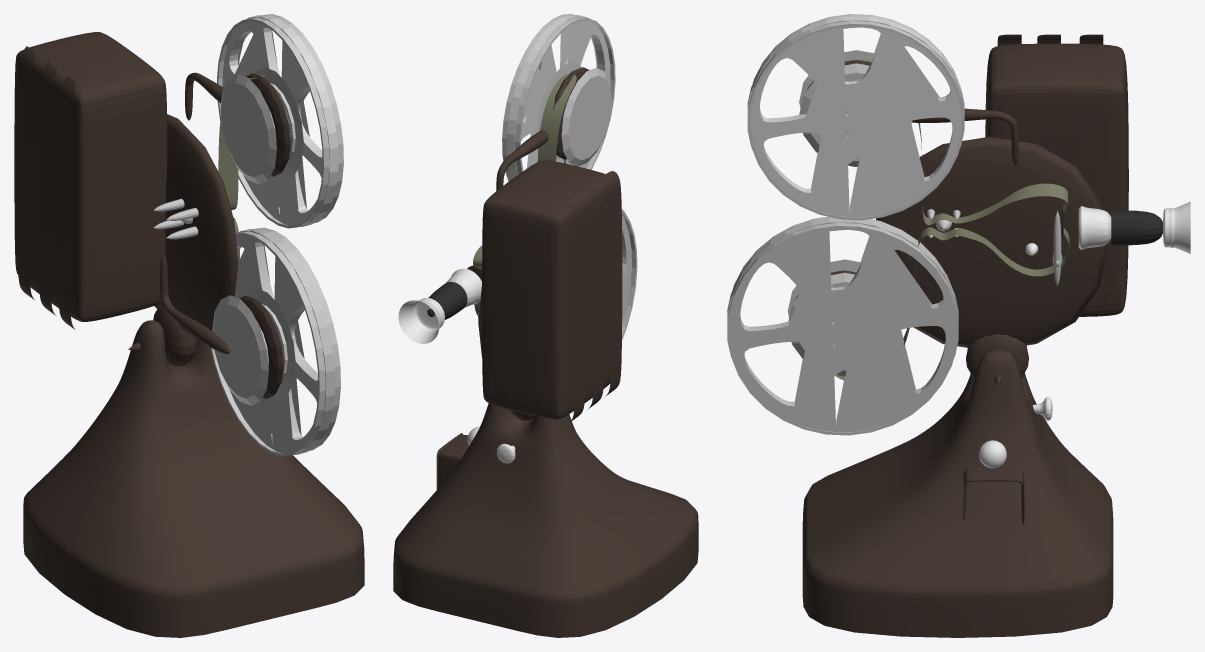
The model's file is film_projector.fbx.
The picture shows the model from 3 angles, left to right: view 1: azimuth 30°, elevation 25°; view 2: azimuth 150°, elevation 25°; view 3: azimuth 270°, elevation 25°; orthographic projection. The views are drawn at different scales.
Visible parts, largest first — view 1: Thanmay, banhxe2, banhxe1; view 2: Thanmay, banhxe1, banhxe2; view 3: Thanmay, banhxe2, banhxe1.
Part boxes in pixels (box(x1,y1,x2,y2)): Thanmay: box(14, 32, 364, 637); banhxe2: box(210, 227, 340, 456); banhxe1: box(217, 14, 343, 228); Thanmay: box(393, 67, 698, 637); banhxe1: box(502, 14, 615, 181); banhxe2: box(621, 209, 637, 340); Thanmay: box(795, 34, 1190, 637); banhxe2: box(727, 216, 958, 435); banhxe1: box(747, 14, 964, 220).
Bounding box in the file's own units: 30.54 × 63.97 × 46.88.
